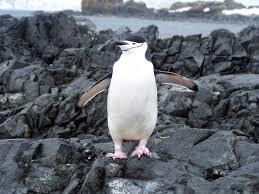chinstrap: (76, 26, 172, 171)
